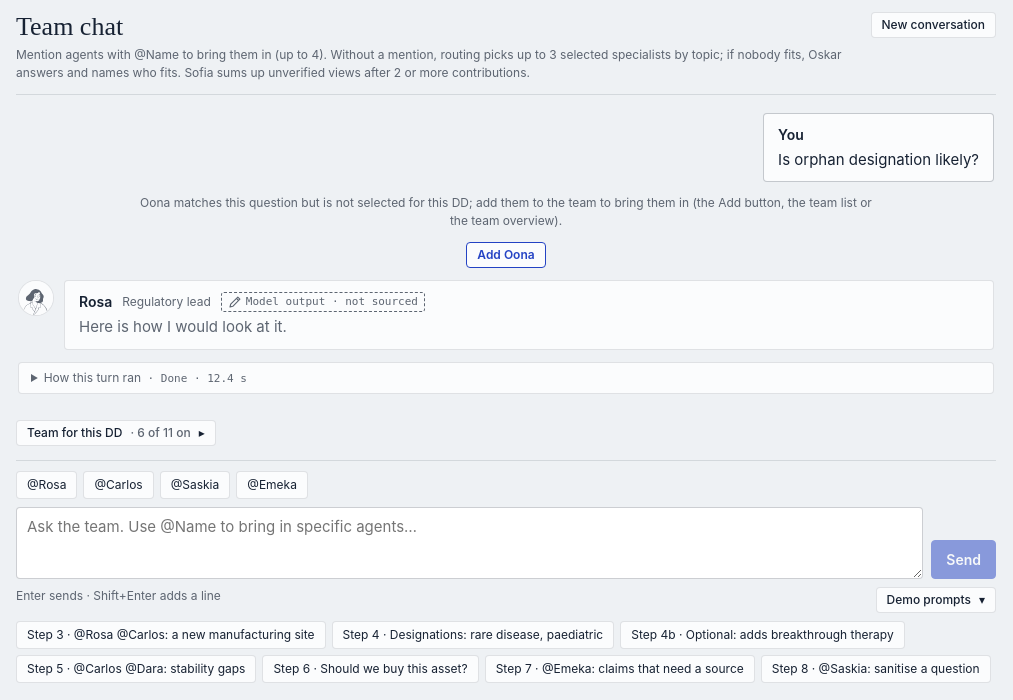
Test: ChatRoom: bringing agents onto the team from the chat › adds an agent the router left out from the button under the note, and the @mention chip appears at once
The width and height of the screenshot is (1013, 700).
Expected: the button "@Oona" is not shown
Click the button "Add Oona" at (506, 255), box [466, 242, 546, 268]
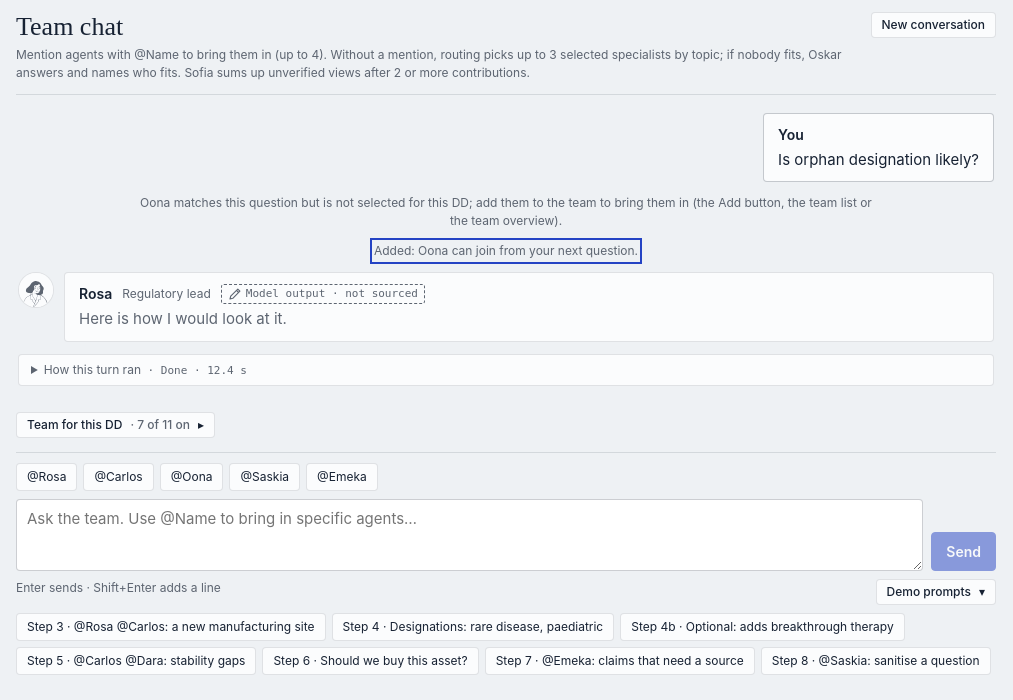
Expected: the text "Added: Oona can join from your next question." is shown, [374, 242, 638, 260]
Expected: the button "@Oona" is shown, [160, 463, 224, 491]
